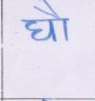o_matra: (37, 1, 74, 40)
